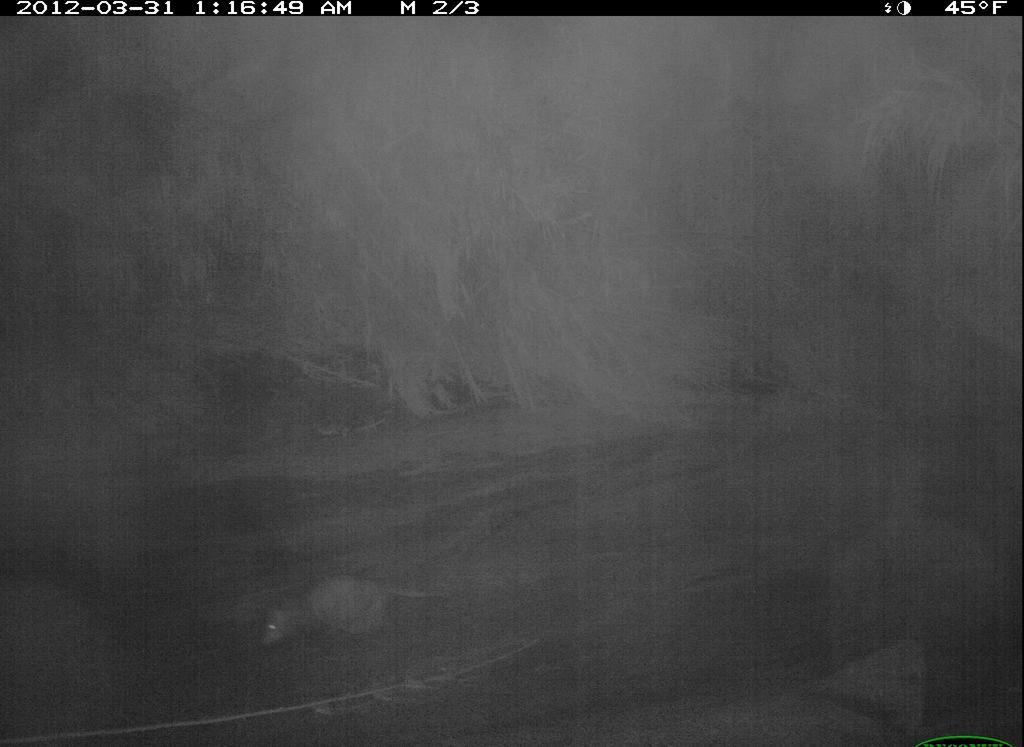opossum: (246, 552, 463, 667)
